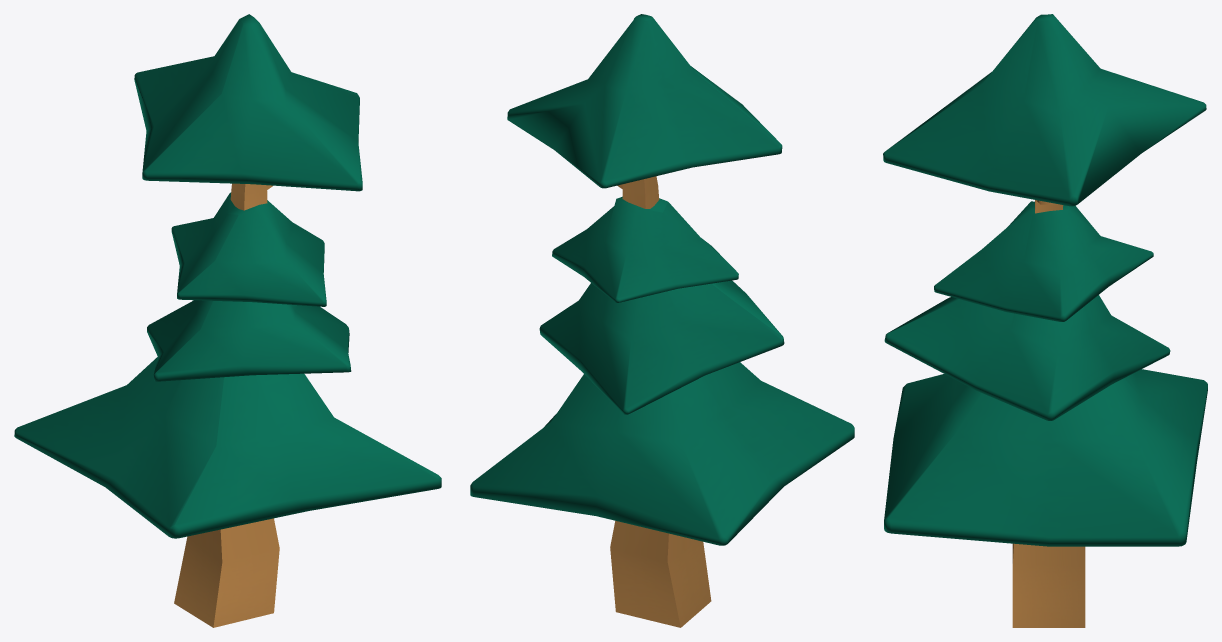
The model's file is Arvore 2.fbx.
3 views of the same model, side by side, from view 1: azimuth 30°, elevation 25°; view 2: azimuth 150°, elevation 25°; view 3: azimuth 270°, elevation 25° (orthographic). The views are drawn at different scales.
Visible parts, largest first — view 1: Cube.005; view 2: Cube.005; view 3: Cube.005.
Part boxes in pixels (x1=…): Cube.005: x1=14, y1=14, x2=441, y2=627; Cube.005: x1=470, y1=14, x2=854, y2=627; Cube.005: x1=883, y1=14, x2=1207, y2=627.
Size of the model in its own units: 763 by 1514 by 734.
Materials: 1 (1 with a texture image).
